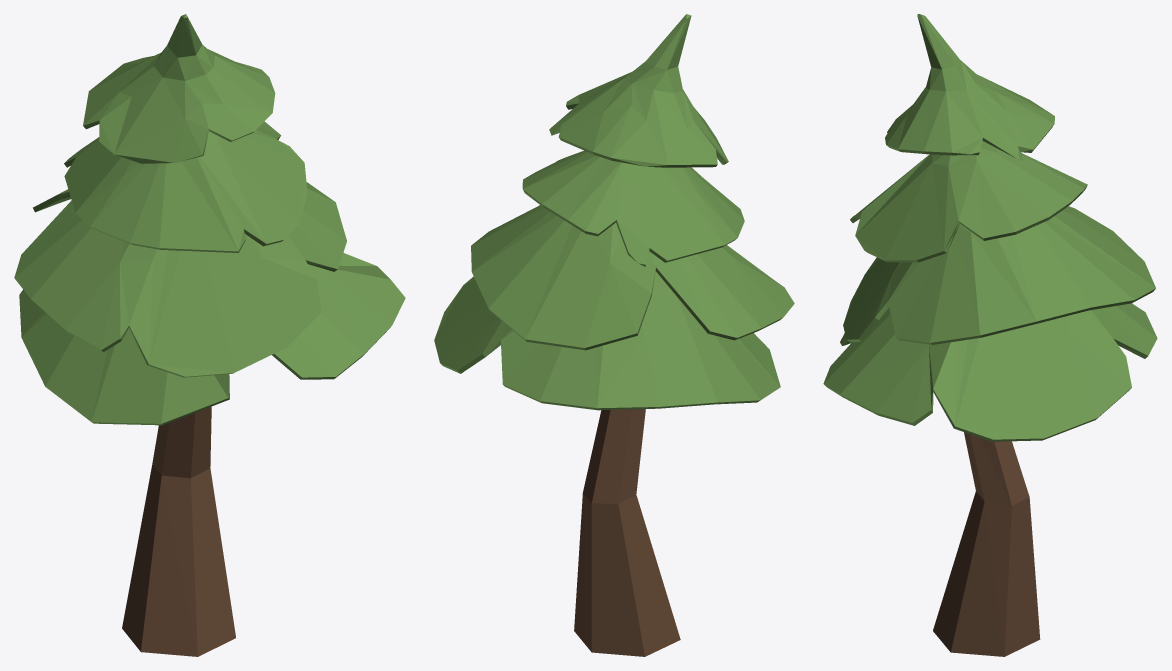
Rendered from PineTree_5.glb.
3 renders of one model, left to right at view 1: azimuth 30°, elevation 25°; view 2: azimuth 150°, elevation 25°; view 3: azimuth 270°, elevation 25°, orthographic. The views are drawn at different scales.
Visible parts, largest first — view 1: PineTree_5; view 2: PineTree_5; view 3: PineTree_5.
Boxes of the visible parts, x1,y1,x2,y2 form: PineTree_5: [14, 14, 405, 656]; PineTree_5: [434, 14, 794, 656]; PineTree_5: [823, 14, 1157, 656].
Bounding box in the file's own units: 1.47 × 2.69 × 1.34.
